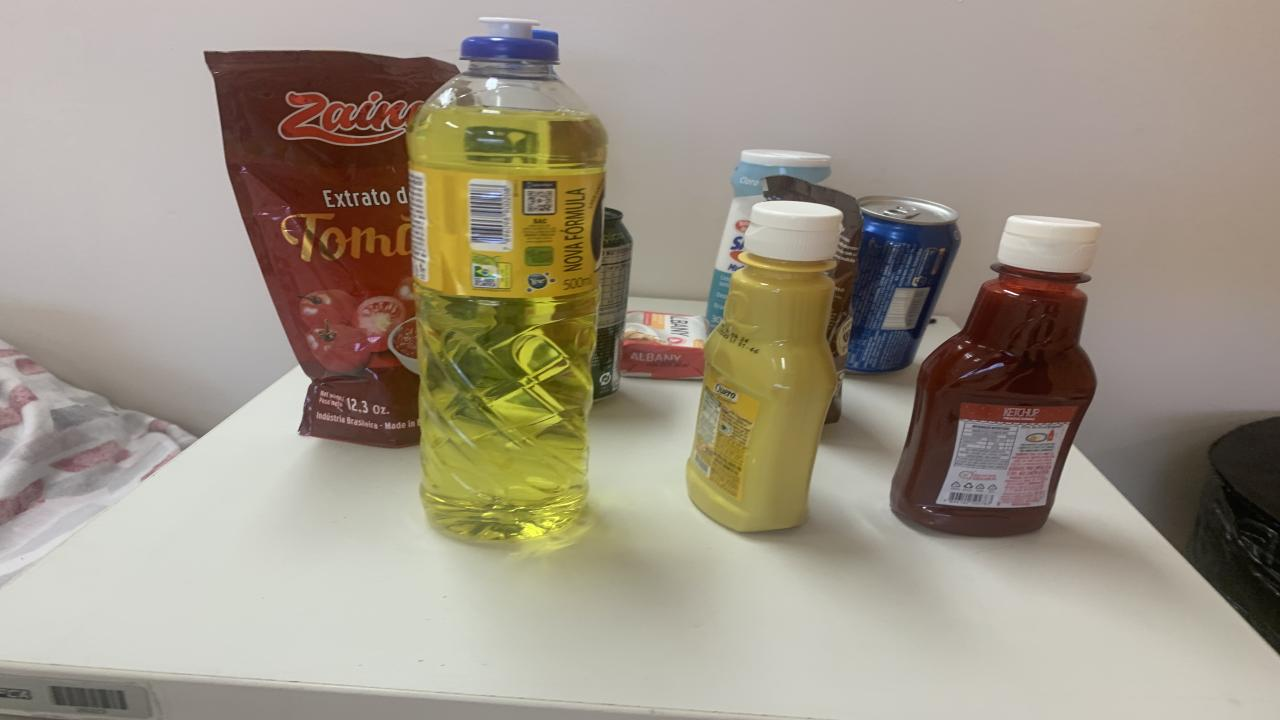Cleaner-Cleanup_Items: (708, 150, 830, 328)
Coffee-Pantry_Items: (762, 176, 862, 424)
Detergent-Cleanup_Items: (408, 22, 608, 540)
Guarana_Can-Drinks: (592, 208, 632, 399)
Ketchup-Pantry_Items: (890, 216, 1100, 536)
Mustard-Pantry_Items: (688, 201, 842, 531)
Soap-Cleanup_Items: (620, 311, 708, 379)
Tomato_Sauce-Pantry_Items: (205, 51, 458, 448)
Tonic-Drinks: (848, 195, 960, 373)
